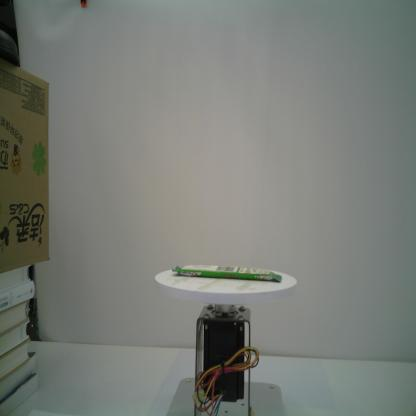Chocolate: (168, 261, 284, 284)
